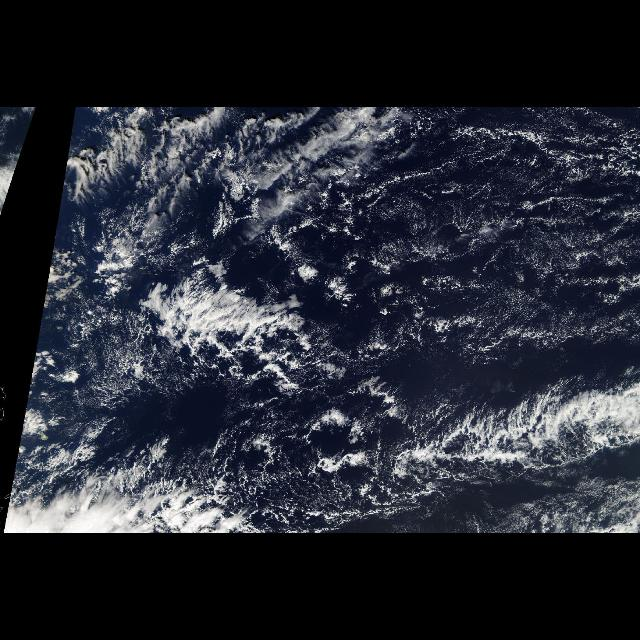Fish: (282, 367, 636, 505)
Sugar: (370, 108, 640, 354)
